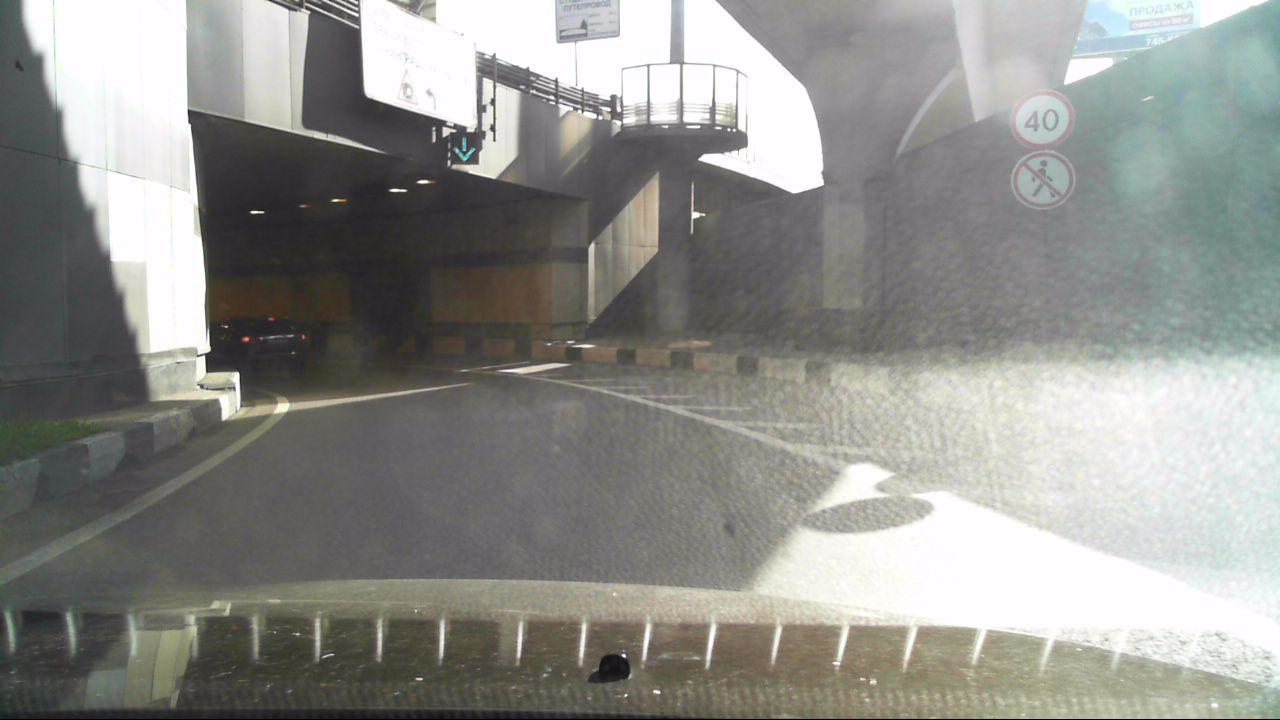3_10: (1011, 147, 1077, 210)
3_24: (1009, 85, 1080, 146)
